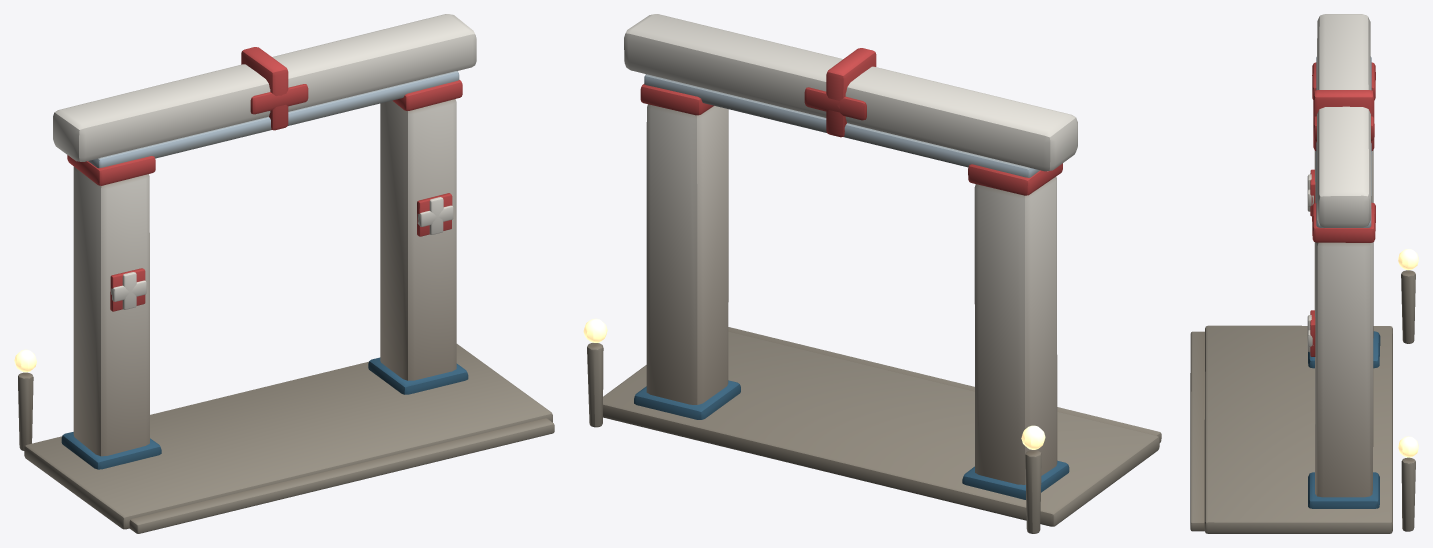
3 views of the same model, side by side, from view 1: azimuth 30°, elevation 25°; view 2: azimuth 150°, elevation 25°; view 3: azimuth 270°, elevation 25° (orthographic). The views are drawn at different scales.
Parts seen in each view (by area): view 1: gate_f991139b; view 2: gate_f991139b; view 3: gate_f991139b.
Part boxes in pixels (bbox=[...]): gate_f991139b: bbox=[14, 14, 554, 533]; gate_f991139b: bbox=[583, 14, 1161, 533]; gate_f991139b: bbox=[1190, 14, 1418, 533].
Bounding box in the file's own units: 5.21 × 4.24 × 2.55.
